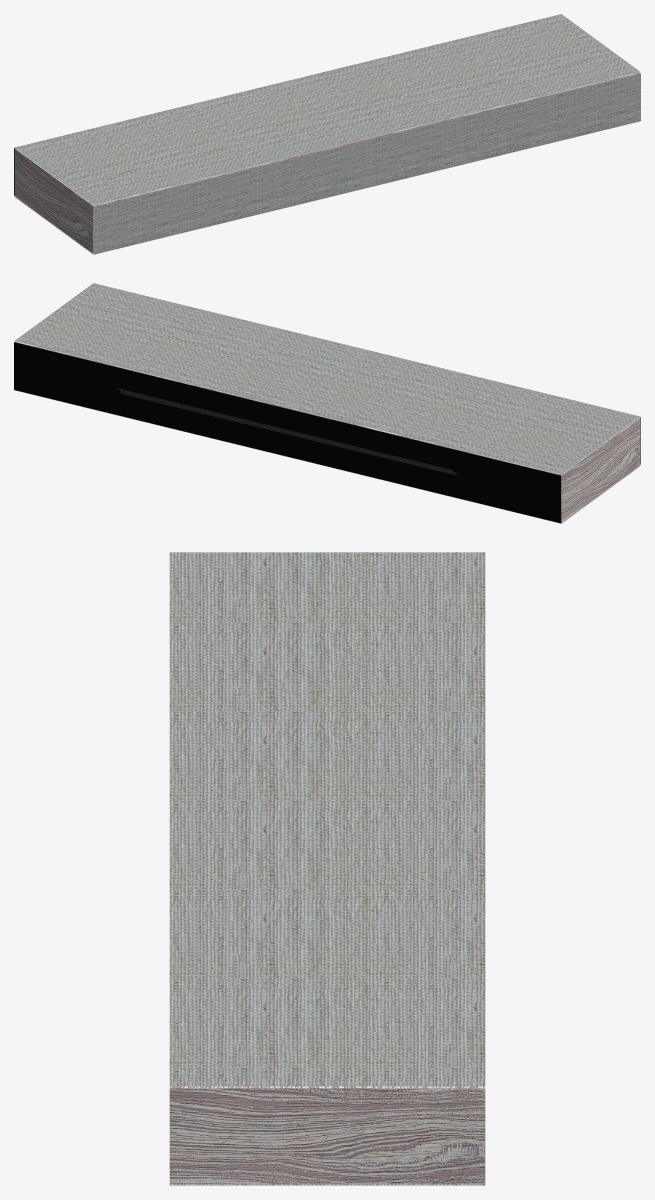
Rendered from crudewing.obj.
The picture shows the model from 3 angles, top to bottom: view 1: azimuth 30°, elevation 25°; view 2: azimuth 150°, elevation 25°; view 3: azimuth 270°, elevation 25°; orthographic projection. The views are drawn at different scales.
Parts seen in each view (by area): view 1: Crudewing3, Crudewing5, Crudewing1, Crudewing4; view 2: Crudewing3, Crudewing2, Crudewing1, Crudewing4; view 3: Crudewing3, Crudewing1, Crudewing4.
Part boxes in pixels (<box>): Crudewing3: <box>15,14,639,205</box>; Crudewing5: <box>94,73,640,254</box>; Crudewing1: <box>14,72,639,253</box>; Crudewing4: <box>15,121,639,254</box>; Crudewing3: <box>15,283,639,474</box>; Crudewing2: <box>14,342,560,523</box>; Crudewing1: <box>15,341,640,522</box>; Crudewing4: <box>15,390,639,523</box>; Crudewing3: <box>169,552,485,1086</box>; Crudewing1: <box>169,1086,485,1183</box>; Crudewing4: <box>169,1183,485,1185</box>.
Bounding box in the file's own units: 12 × 1.04 × 3.04.
3 materials, 3 textured.
